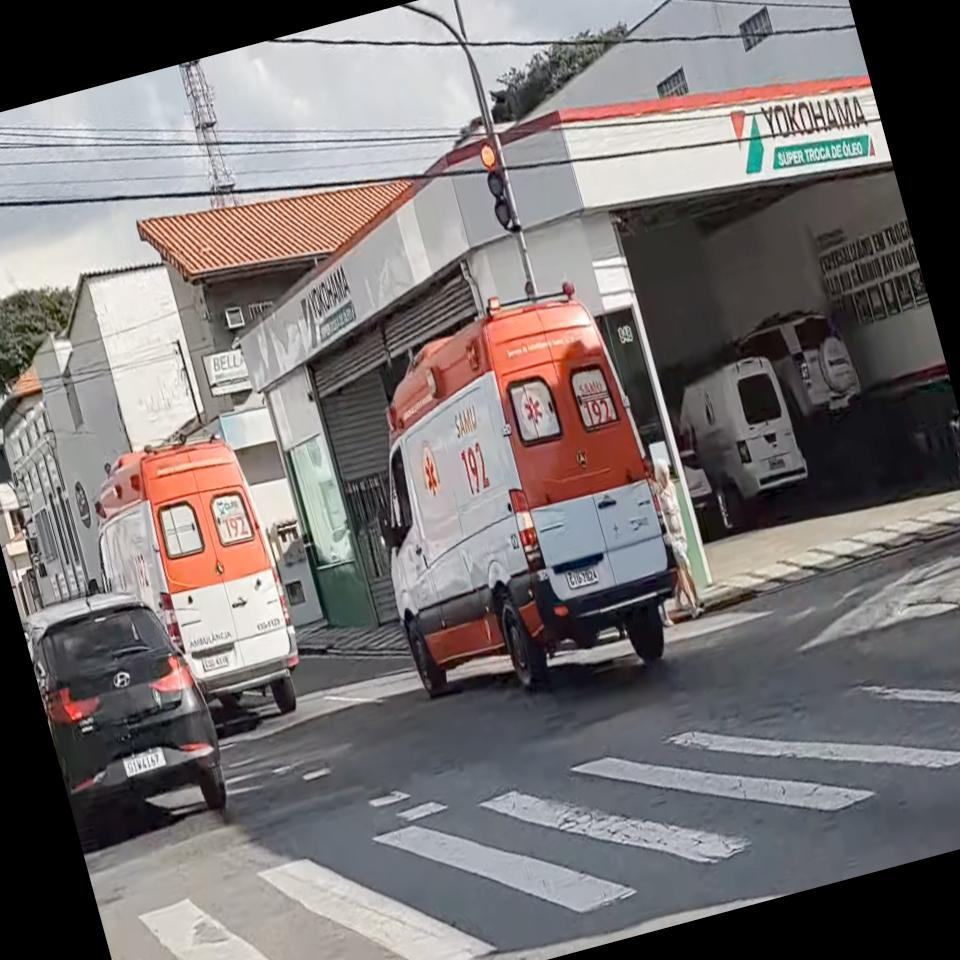bombeiro: (325, 269, 699, 720), (58, 422, 314, 752)
